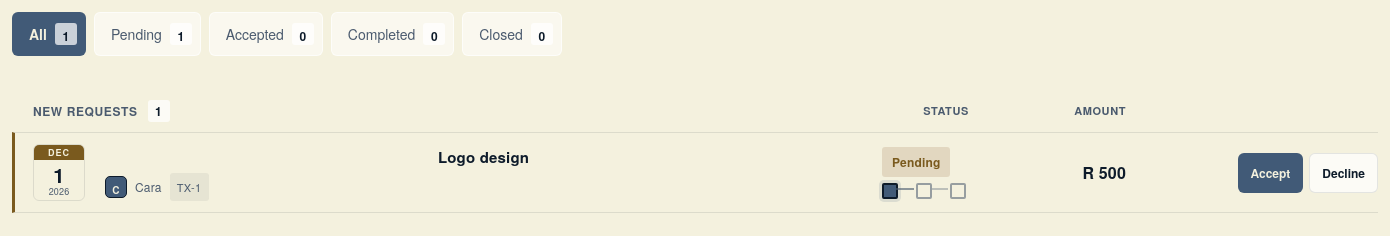
Test case: BookingsList status actions › applies an action without confirmation straight away
The image size is (1390, 236).
Click the button "Accept": (1270, 173) [1238,153,1303,193]
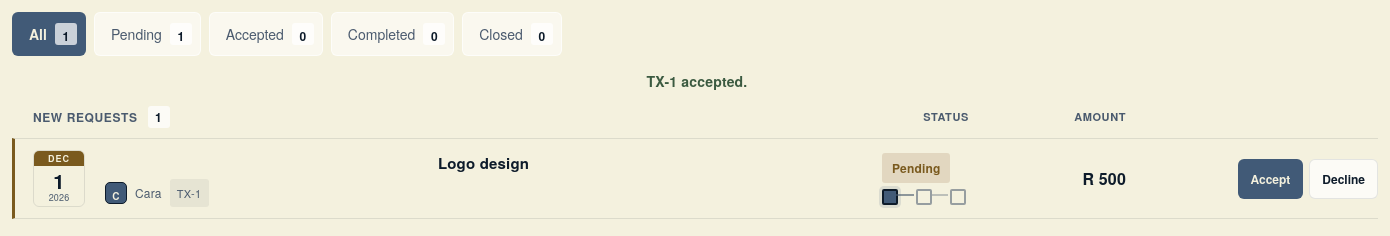
Expected: the text "TX-1 accepted." is shown, [647,71,747,91]
